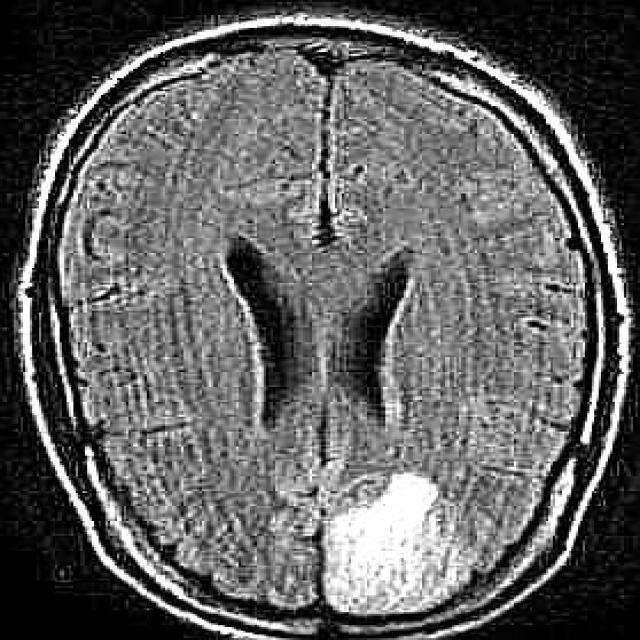brain tumor: (326, 473, 479, 616)
